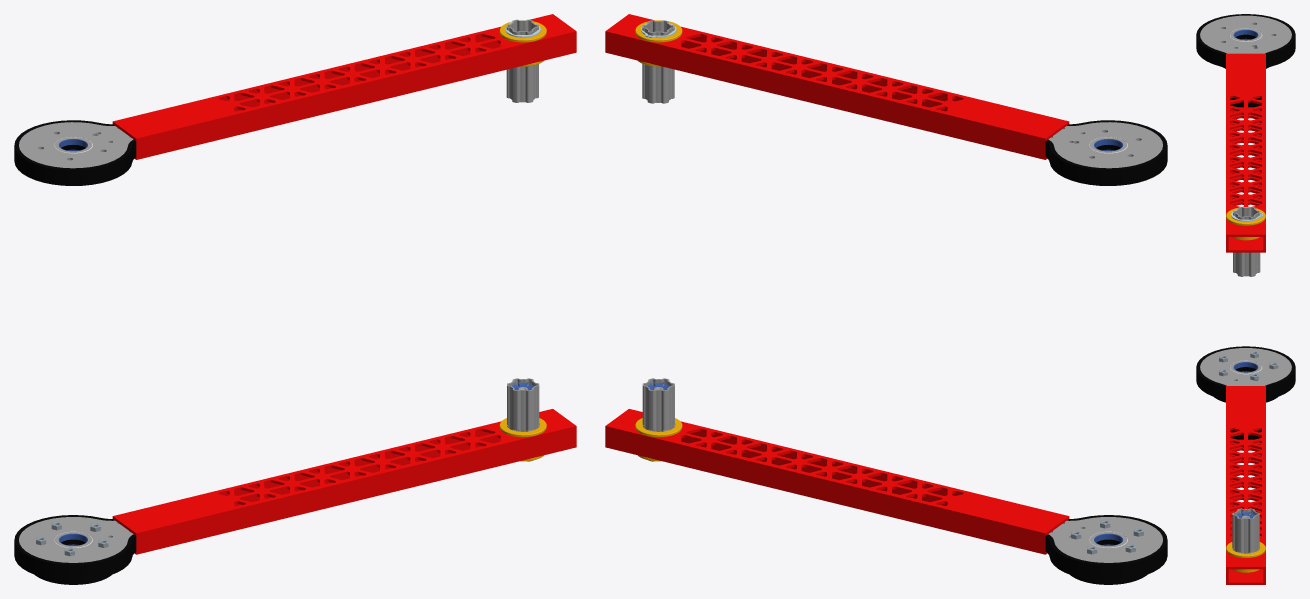
3 views of the same model, side by side, from view 1: azimuth 30°, elevation 25°; view 2: azimuth 150°, elevation 25°; view 3: azimuth 270°, elevation 25° (orthographic). The views are drawn at different scales.
Parts seen in each view (by area): view 1: Tube 2"x1"x21.535" (×2), Part 10 (×2), Part 8 (×2), Part 21 (×2); view 2: Tube 2"x1"x21.535" (×2), Part 10 (×2), Part 8 (×2), Part 21 (×2); view 3: Tube 2"x1"x21.535" (×2), Part 10 (×2), Part 8 (×2), Part 21 (×2), 5972K282_Ball Bearing (×4), 2934T65_Corrosion-Resistant Flanged Sleeve Bearing (×2).
Part boxes in pixels (x1,y1,x2,y2): Tube 2"x1"x21.535" (×2): (112,14,576,554); Part 10 (×2): (19,122,133,562); Part 8 (×2): (14,120,136,580); Part 21 (×2): (506,19,539,461); Tube 2"x1"x21.535" (×2): (605,14,1069,554); Part 10 (×2): (1048,122,1162,562); Part 8 (×2): (1045,120,1167,580); Part 21 (×2): (642,20,674,461); Tube 2"x1"x21.535" (×2): (1226,53,1265,584); Part 10 (×2): (1200,15,1291,385); Part 8 (×2): (1196,14,1295,439); Part 21 (×2): (1232,206,1260,553); 5972K282_Ball Bearing (×4): (1230,28,1261,373); 2934T65_Corrosion-Resistant Flanged Sleeve Bearing (×2): (1226,207,1265,557).
Size of the model in its own units: 0.674 by 0.5111 by 0.127.
